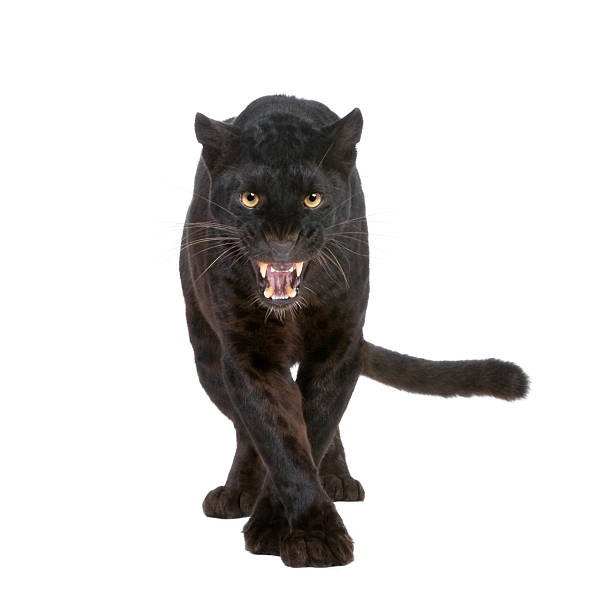panther: (173, 98, 400, 341)
